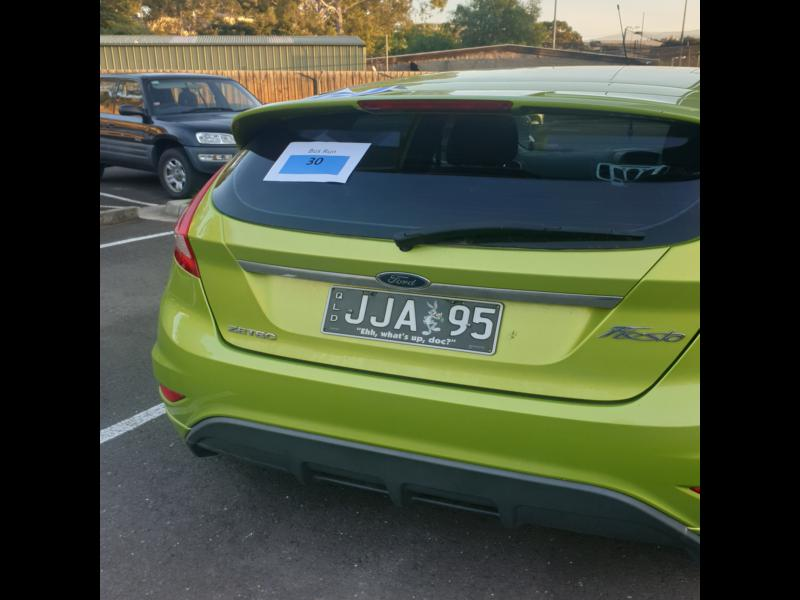BusRun: (277, 154, 350, 176)
PlateNo: (319, 286, 504, 355)
